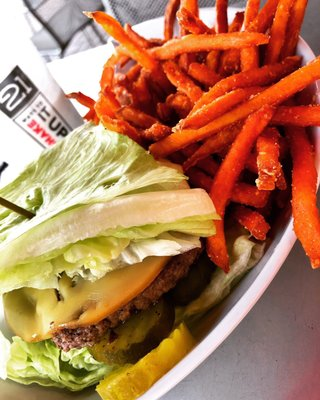soup: (0, 122, 221, 375)
